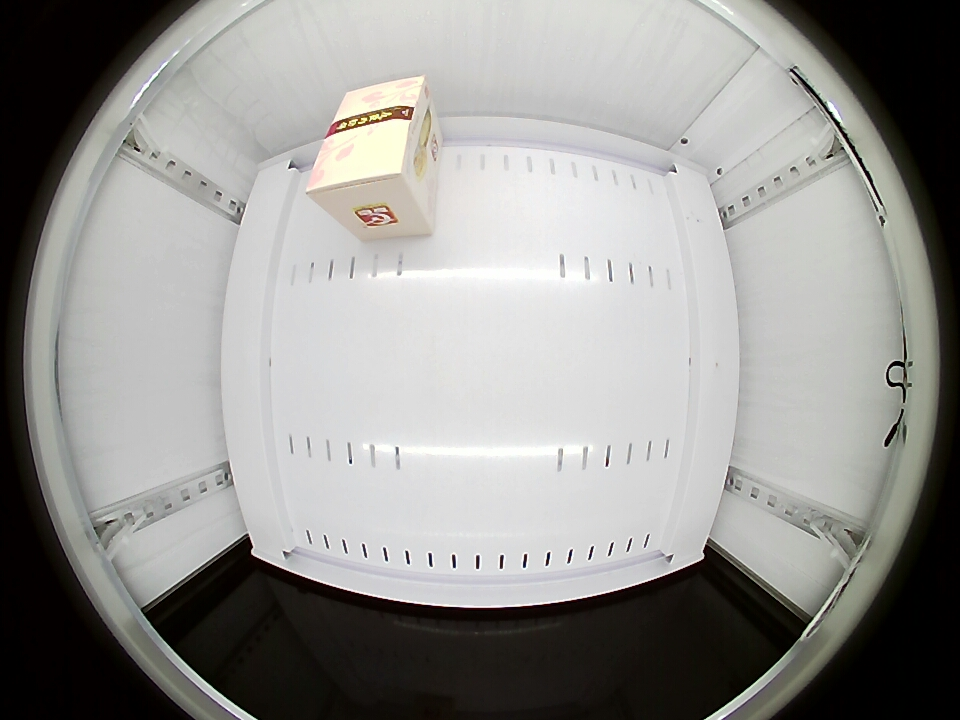rousongbing: (305, 75, 433, 220)
